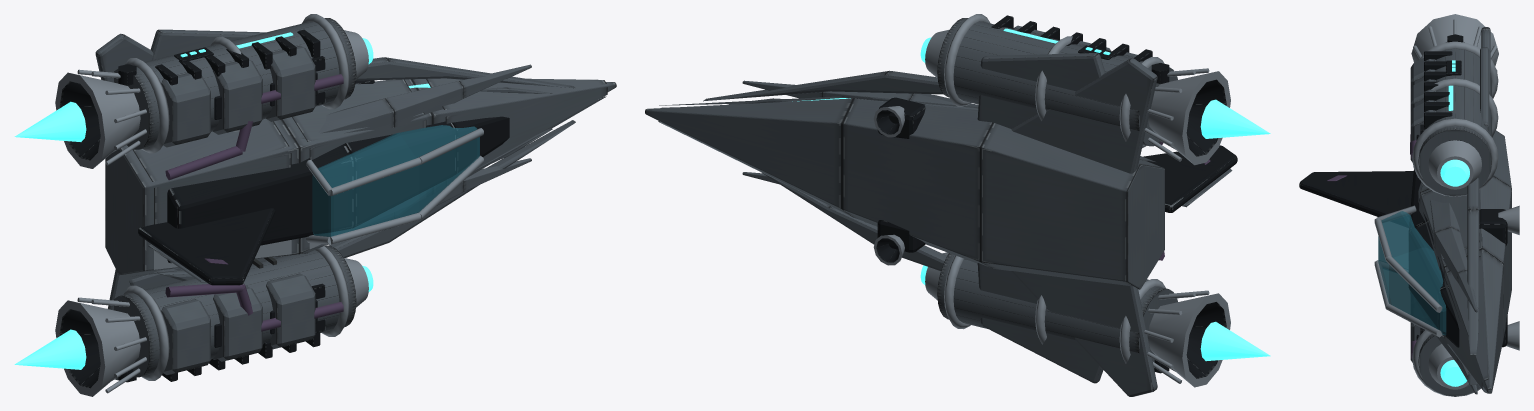
Rendered from rocket-high.glb.
3 renders of one model, left to right at view 1: azimuth 30°, elevation 25°; view 2: azimuth 150°, elevation 25°; view 3: azimuth 270°, elevation 25°, orthographic. The views are drawn at different scales.
Parts seen in each view (by area): view 1: rocket-root / Brushed pale alloy, rocket-root / Ceramic graphite, rocket-root / Titanium edges, rocket-root / Cyan glazing, rocket-root / Anodized hardware, Engine exhaust / Cyan instrumentation, Engine exhaust.001 / Cyan instrumentation, rocket-root / Cyan instrumentation; view 2: rocket-root / Brushed pale alloy, rocket-root / Titanium edges, rocket-root / Ceramic graphite, Engine exhaust.001 / Cyan instrumentation, Engine exhaust / Cyan instrumentation, rocket-root / Cyan instrumentation; view 3: rocket-root / Brushed pale alloy, rocket-root / Titanium edges, rocket-root / Ceramic graphite, rocket-root / Cyan glazing, rocket-root / Cyan instrumentation, rocket-root / Anodized hardware.
Part boxes in pixels (x1=…): rocket-root / Brushed pale alloy: x1=95, y1=18, x2=616, y2=380; rocket-root / Ceramic graphite: x1=59, y1=29, x2=509, y2=388; rocket-root / Titanium edges: x1=55, y1=14, x2=483, y2=396; rocket-root / Cyan glazing: x1=312, y1=125, x2=479, y2=236; rocket-root / Anodized hardware: x1=165, y1=74, x2=343, y2=331; Engine exhaust / Cyan instrumentation: x1=14, y1=329, x2=86, y2=369; Engine exhaust.001 / Cyan instrumentation: x1=14, y1=101, x2=86, y2=141; rocket-root / Cyan instrumentation: x1=180, y1=32, x2=430, y2=291; rocket-root / Brushed pale alloy: x1=645, y1=18, x2=1232, y2=396; rocket-root / Titanium edges: x1=873, y1=14, x2=1230, y2=387; rocket-root / Ceramic graphite: x1=876, y1=15, x2=1237, y2=378; Engine exhaust.001 / Cyan instrumentation: x1=1200, y1=99, x2=1270, y2=138; Engine exhaust / Cyan instrumentation: x1=1200, y1=321, x2=1270, y2=361; rocket-root / Cyan instrumentation: x1=792, y1=28, x2=1110, y2=284; rocket-root / Brushed pale alloy: x1=1410, y1=27, x2=1511, y2=396; rocket-root / Titanium edges: x1=1374, y1=14, x2=1519, y2=396; rocket-root / Ceramic graphite: x1=1299, y1=34, x2=1507, y2=347; rocket-root / Cyan glazing: x1=1378, y1=211, x2=1446, y2=335; rocket-root / Cyan instrumentation: x1=1440, y1=60, x2=1469, y2=386; rocket-root / Anodized hardware: x1=1327, y1=134, x2=1416, y2=358.
Bounding box in the file's own units: 1.7 × 0.9044 × 0.5948.
7 materials, 2 textured.
